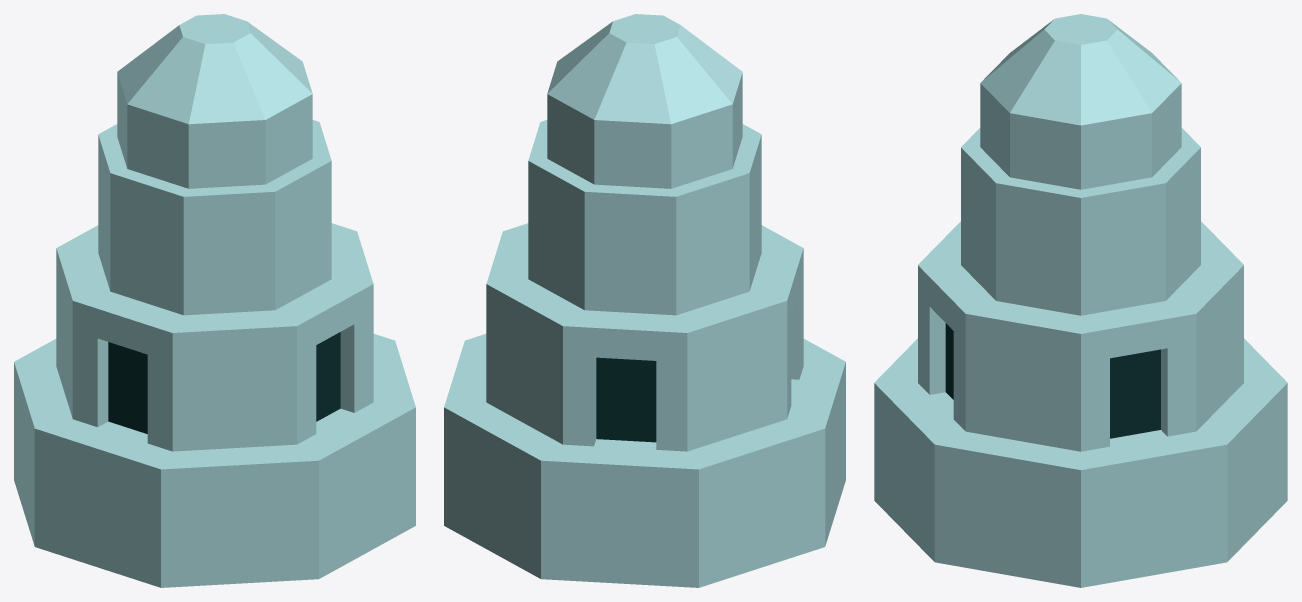
The model's file is ice_tower.gltf.
3 views of the same model, side by side, from view 1: azimuth 30°, elevation 25°; view 2: azimuth 150°, elevation 25°; view 3: azimuth 270°, elevation 25° (orthographic).
Visible parts, largest first — view 1: Cylinder.001; view 2: Cylinder.001; view 3: Cylinder.001.
Part boxes in pixels (x1,y1,x2,y2): Cylinder.001: (14,14,415,587); Cylinder.001: (444,14,845,587); Cylinder.001: (874,14,1287,587).
Size of the model in its own units: 8.22 by 10.33 by 8.22.
